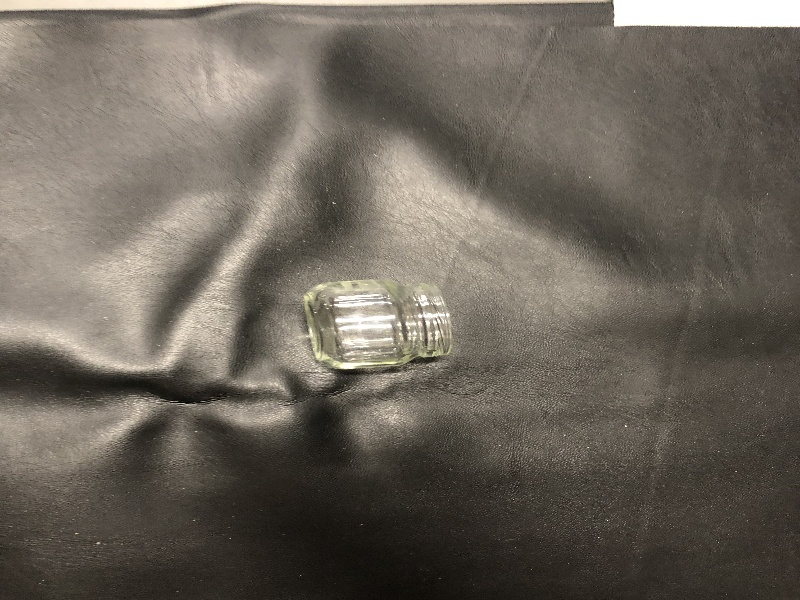glass: (292, 264, 465, 384)
